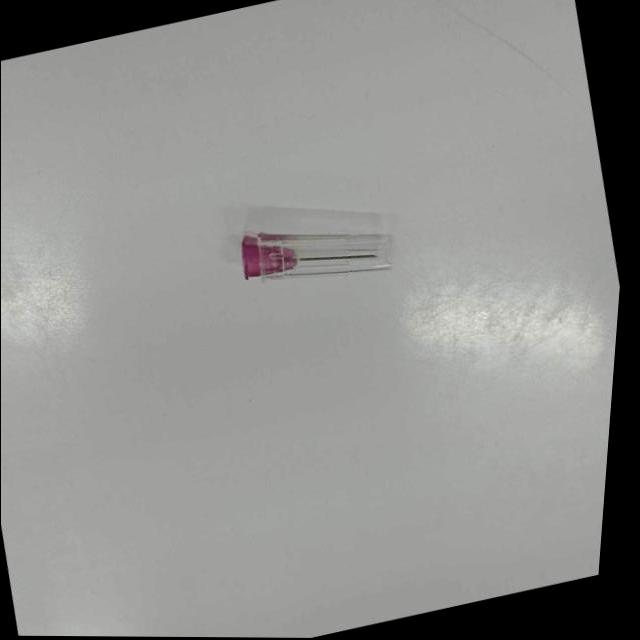General: (240, 233, 299, 280)
Pathological: (3, 1, 621, 637)
Sharps: (241, 230, 395, 281)
